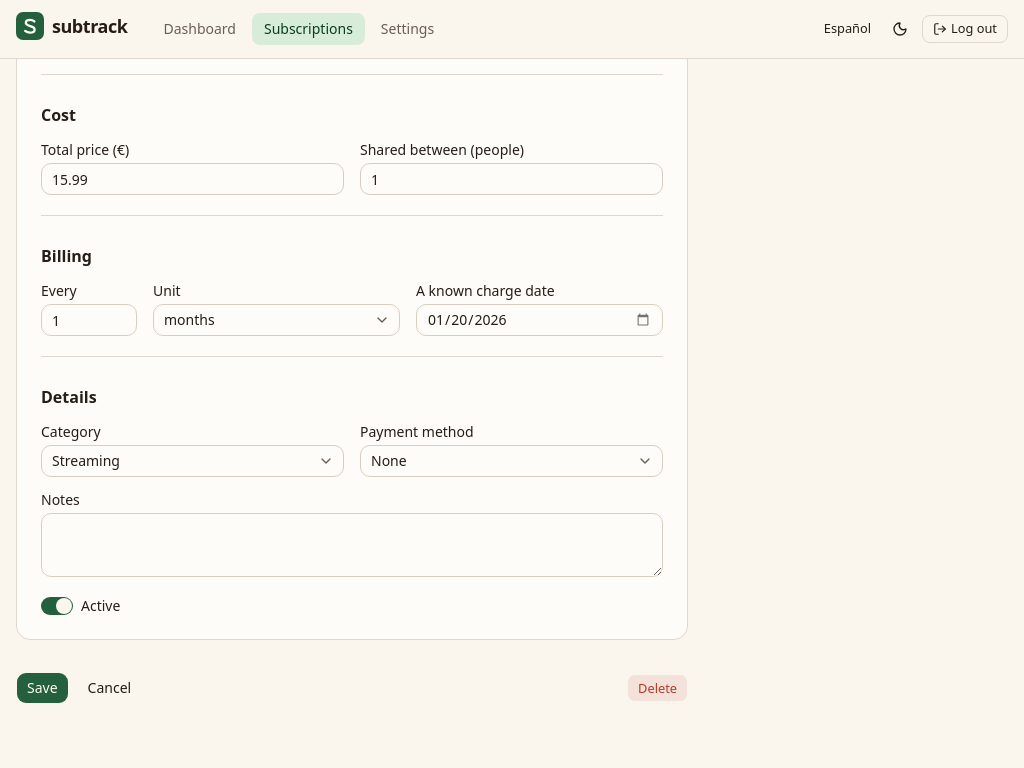
Test: edits and cancels a subscription
The image size is (1024, 768).
(page scrolled)
Expected: the field labelled "Name" holds "Netflix", 41,22 -> 663,54
Expected: the dropdown labelled "Category" shows "Streaming", 41,445 -> 344,477
Step 1. Click the switch named "Active" → (57, 606), box 41,597 -> 73,615
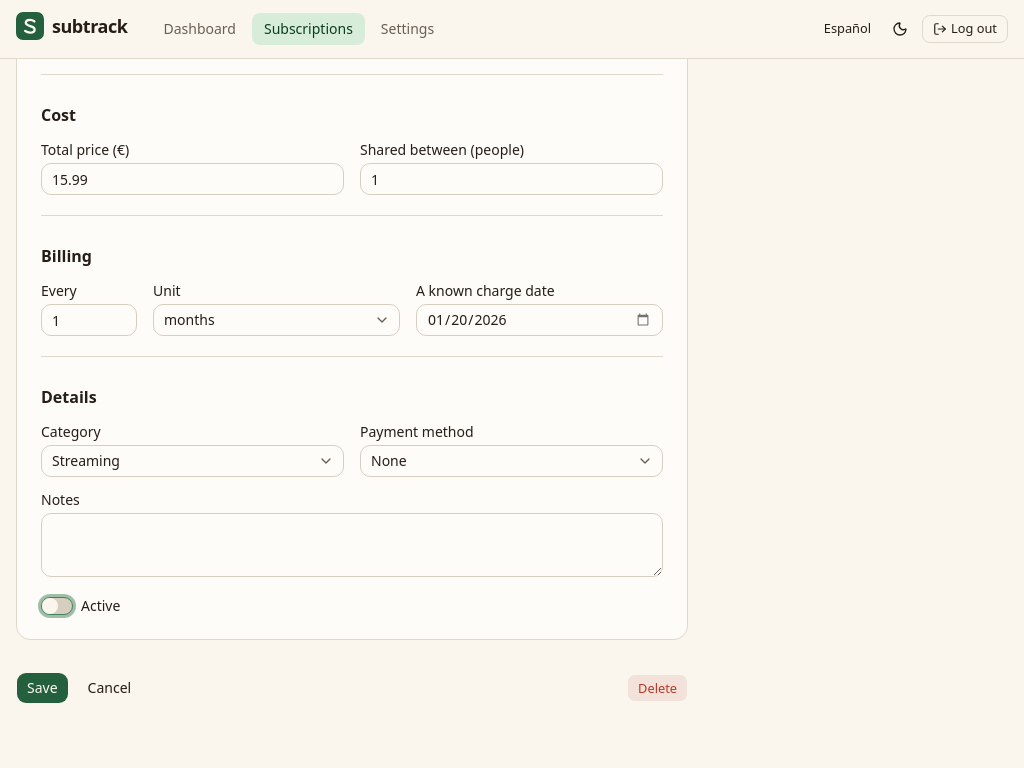
Step 2. Click the button "Save" → (42, 688), box 16,672 -> 69,704
(page scrolled)
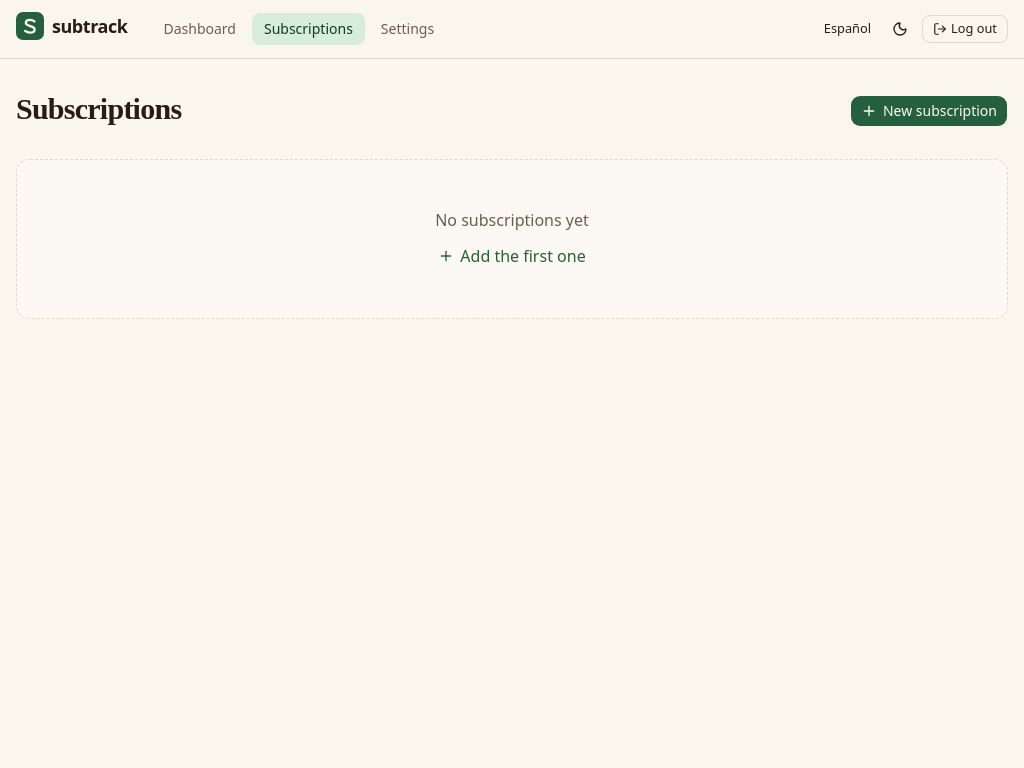
Now the heading "Subscriptions" is shown, box 16,91 -> 181,127
